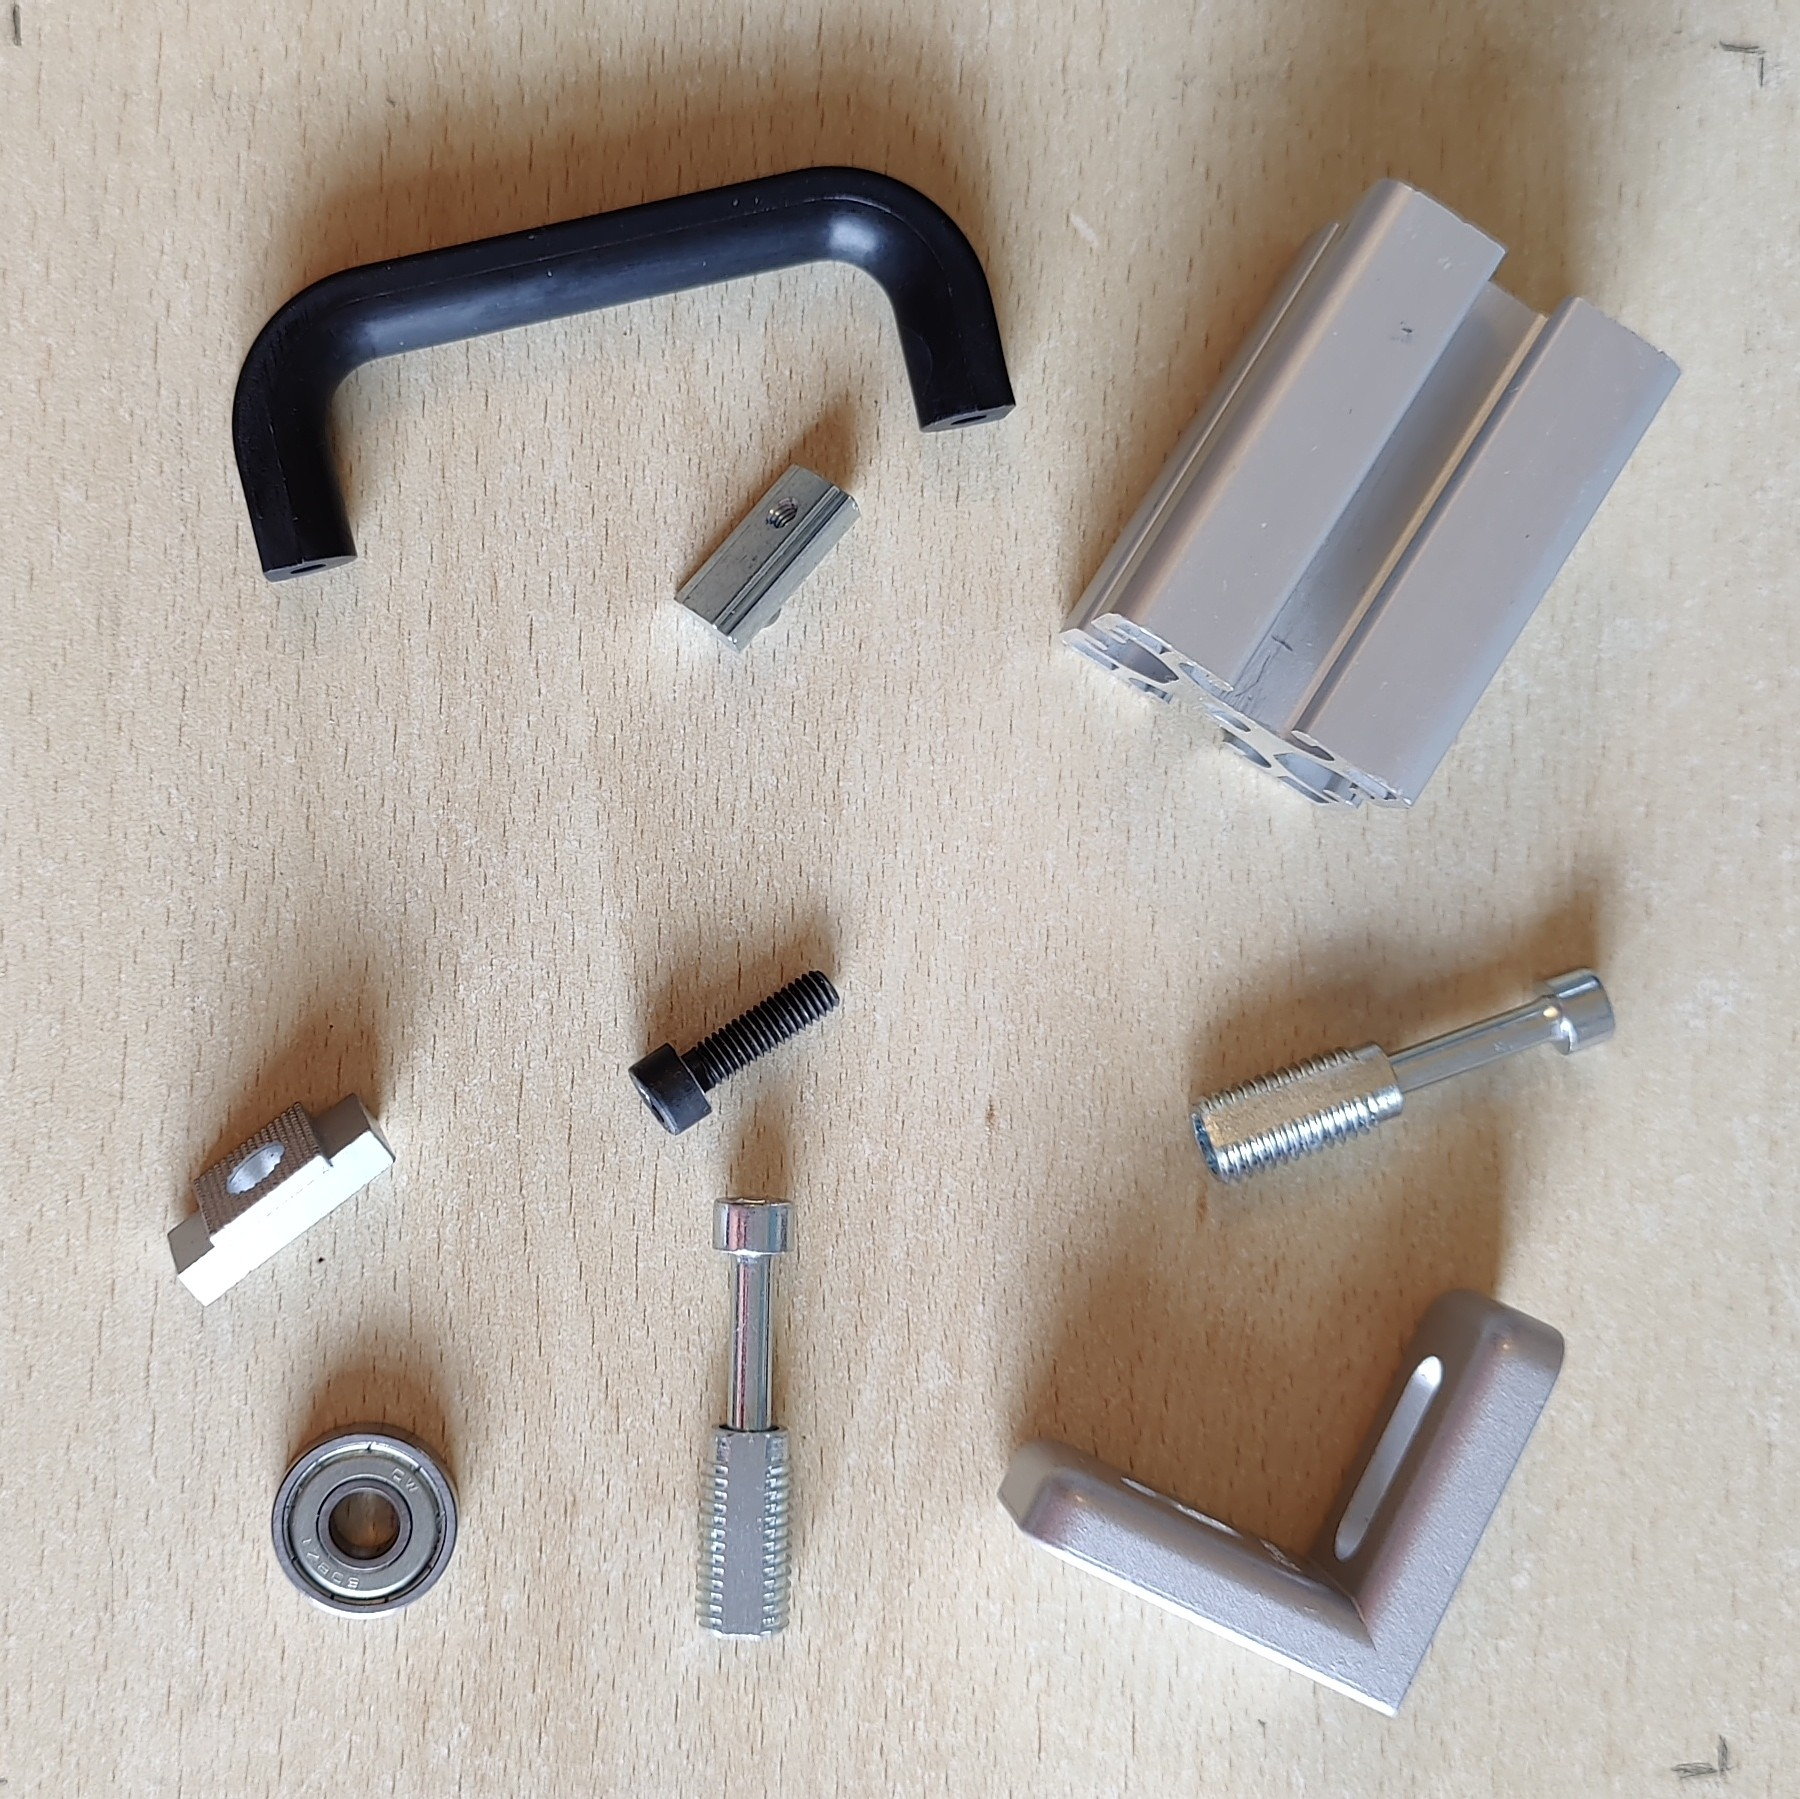Aluminium Extension: (1056, 176, 1686, 817)
Ball Bearing: (273, 1415, 461, 1623)
Multiwinkel: (996, 1283, 1568, 1722)
Pull Handle: (229, 161, 1018, 585)
Shoulder Socket Head Cap Screw: (1187, 967, 1619, 1188), (688, 1193, 797, 1641)
Socket Head Cap Screw: (624, 967, 843, 1135)
T Nut Square: (166, 1087, 400, 1310)
T Spring Nut: (669, 460, 866, 656)
